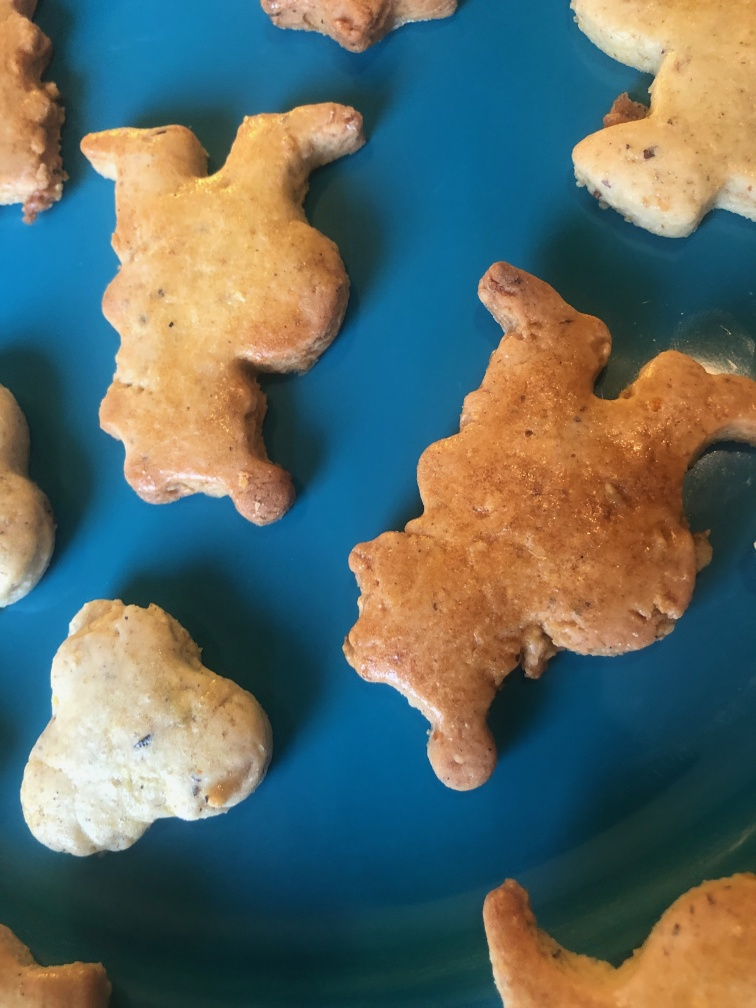flake: (17, 594, 274, 858)
santa claus: (340, 260, 756, 788), (78, 100, 368, 525)
